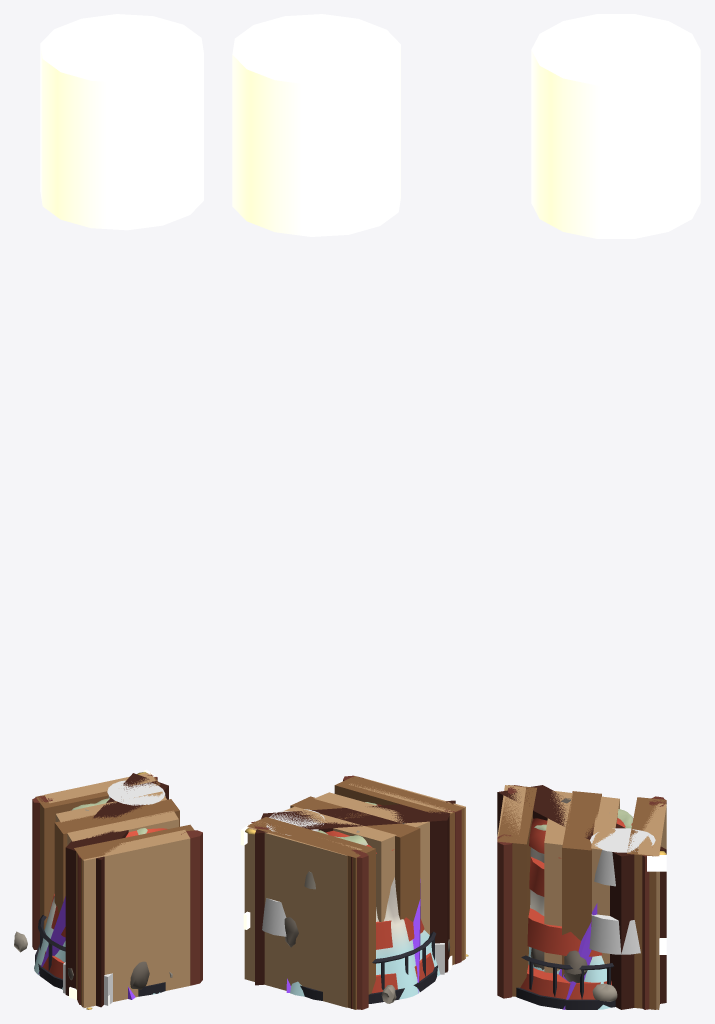
File: ile-phare.glb
3 views of the same model, side by side, from view 1: azimuth 30°, elevation 25°; view 2: azimuth 150°, elevation 25°; view 3: azimuth 270°, elevation 25° (orthographic). The views are drawn at different scales.
Parts seen in each view (by area): view 1: phare_decor, phare_lanterne, phare_terrain; view 2: phare_decor, phare_lanterne, phare_terrain; view 3: phare_lanterne, phare_decor, phare_terrain.
Boxes of the visible parts, x1,y1,x2,y2 form: phare_decor: [14, 769, 202, 1009]; phare_lanterne: [40, 14, 203, 230]; phare_terrain: [34, 798, 160, 994]; phare_decor: [240, 775, 468, 1009]; phare_lanterne: [232, 14, 400, 236]; phare_terrain: [290, 802, 440, 999]; phare_lanterne: [531, 14, 700, 238]; phare_decor: [497, 785, 666, 1009]; phare_terrain: [528, 809, 633, 1009].
Size of the model in its own units: 2.3 by 12.19 by 2.4.
